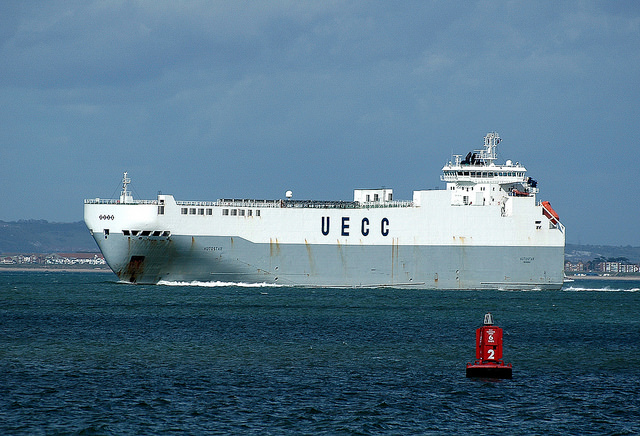PCC: (80, 128, 566, 285)
